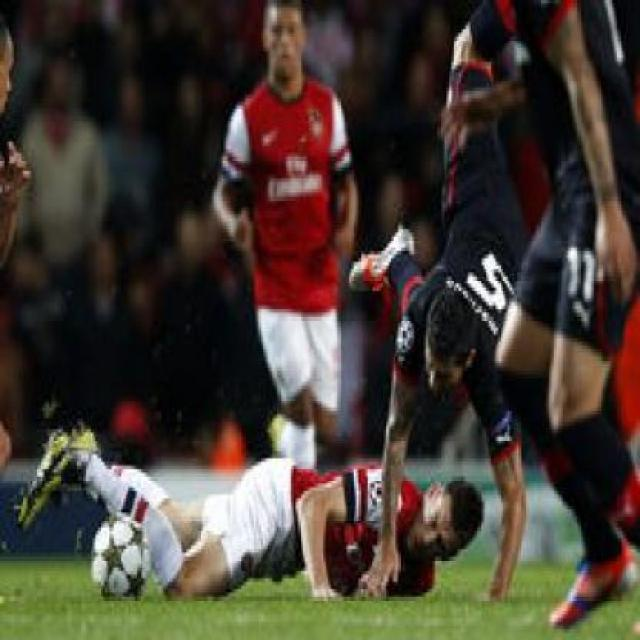fall: (351, 69, 544, 557)
